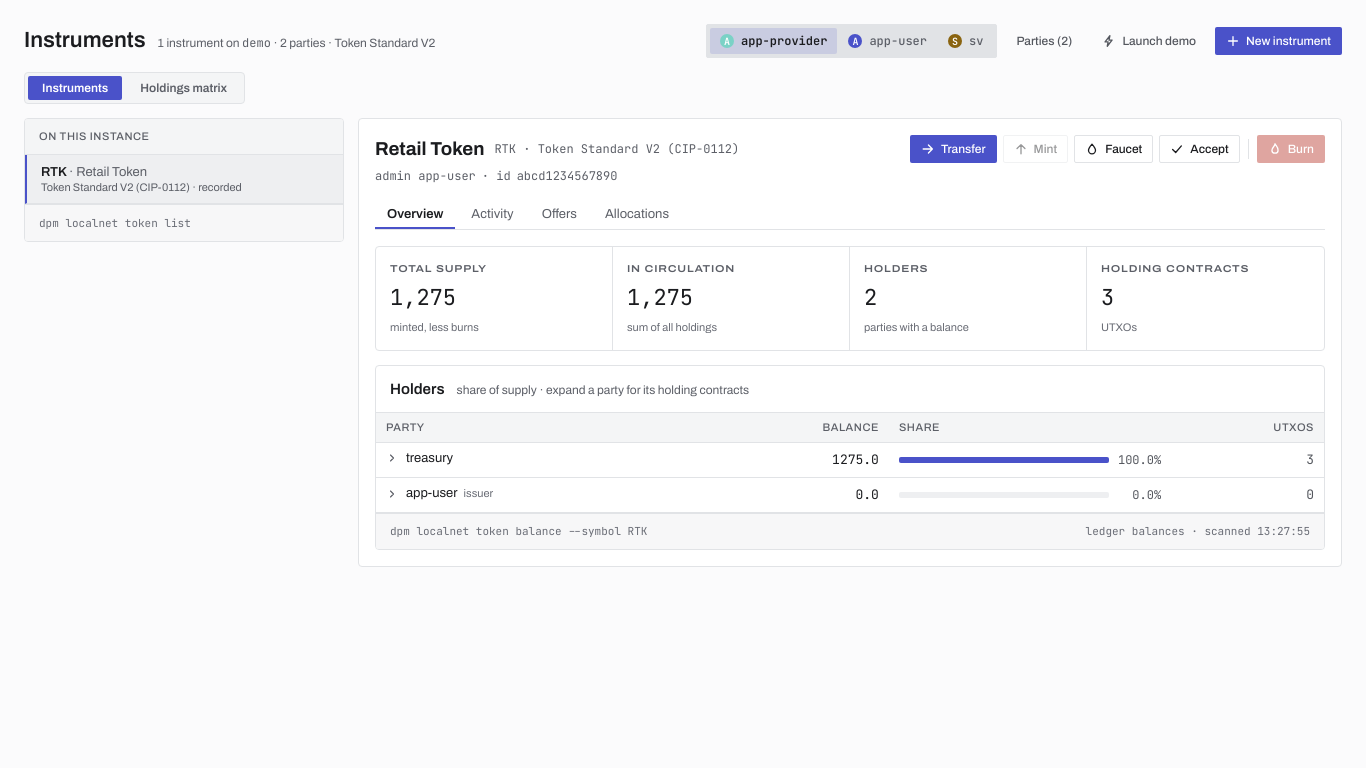
Test: TokensScreen › offers an auto-accept toggle in the transfer modal
The width and height of the screenshot is (1366, 768).
Click the button "Transfer": click(953, 149) [910, 135, 997, 163]
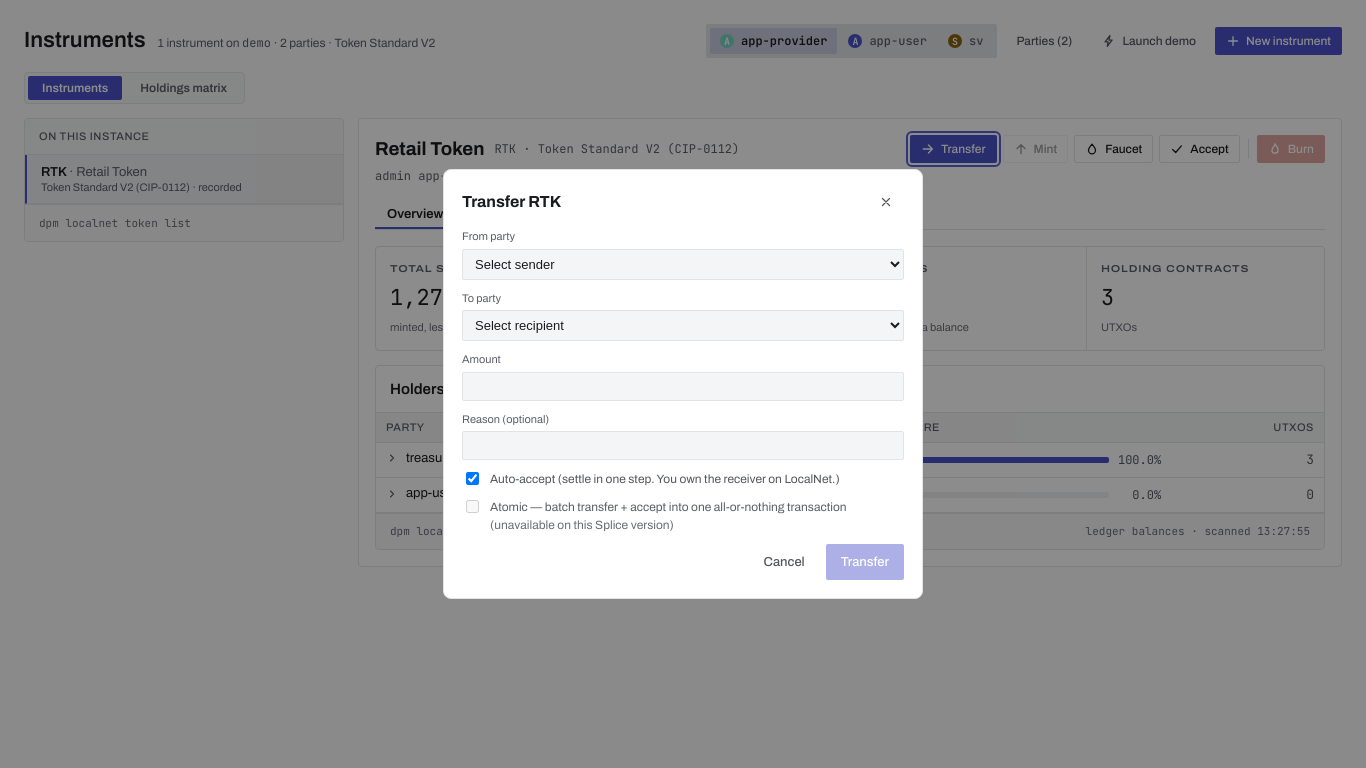
expect the text "Auto-accept" is shown: met, box [490, 472, 840, 486]
